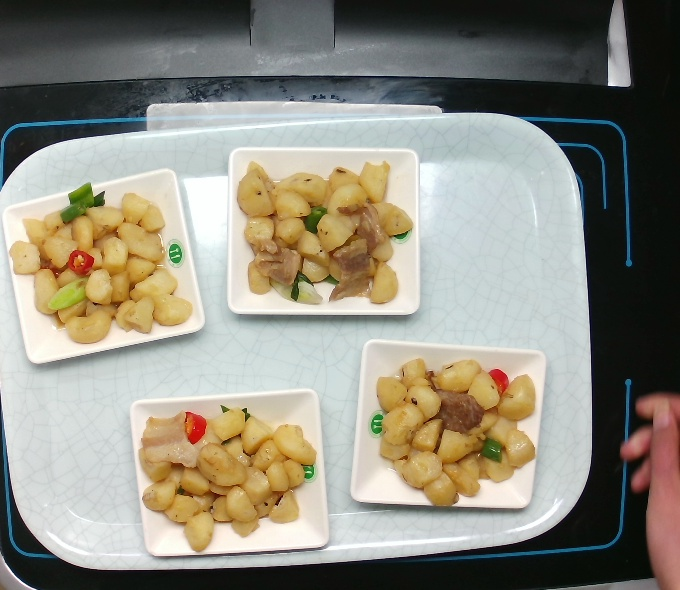wcq-MaTiGuoChaoRou: (233, 152, 412, 309), (357, 345, 536, 502), (136, 390, 315, 547), (12, 188, 191, 345)
